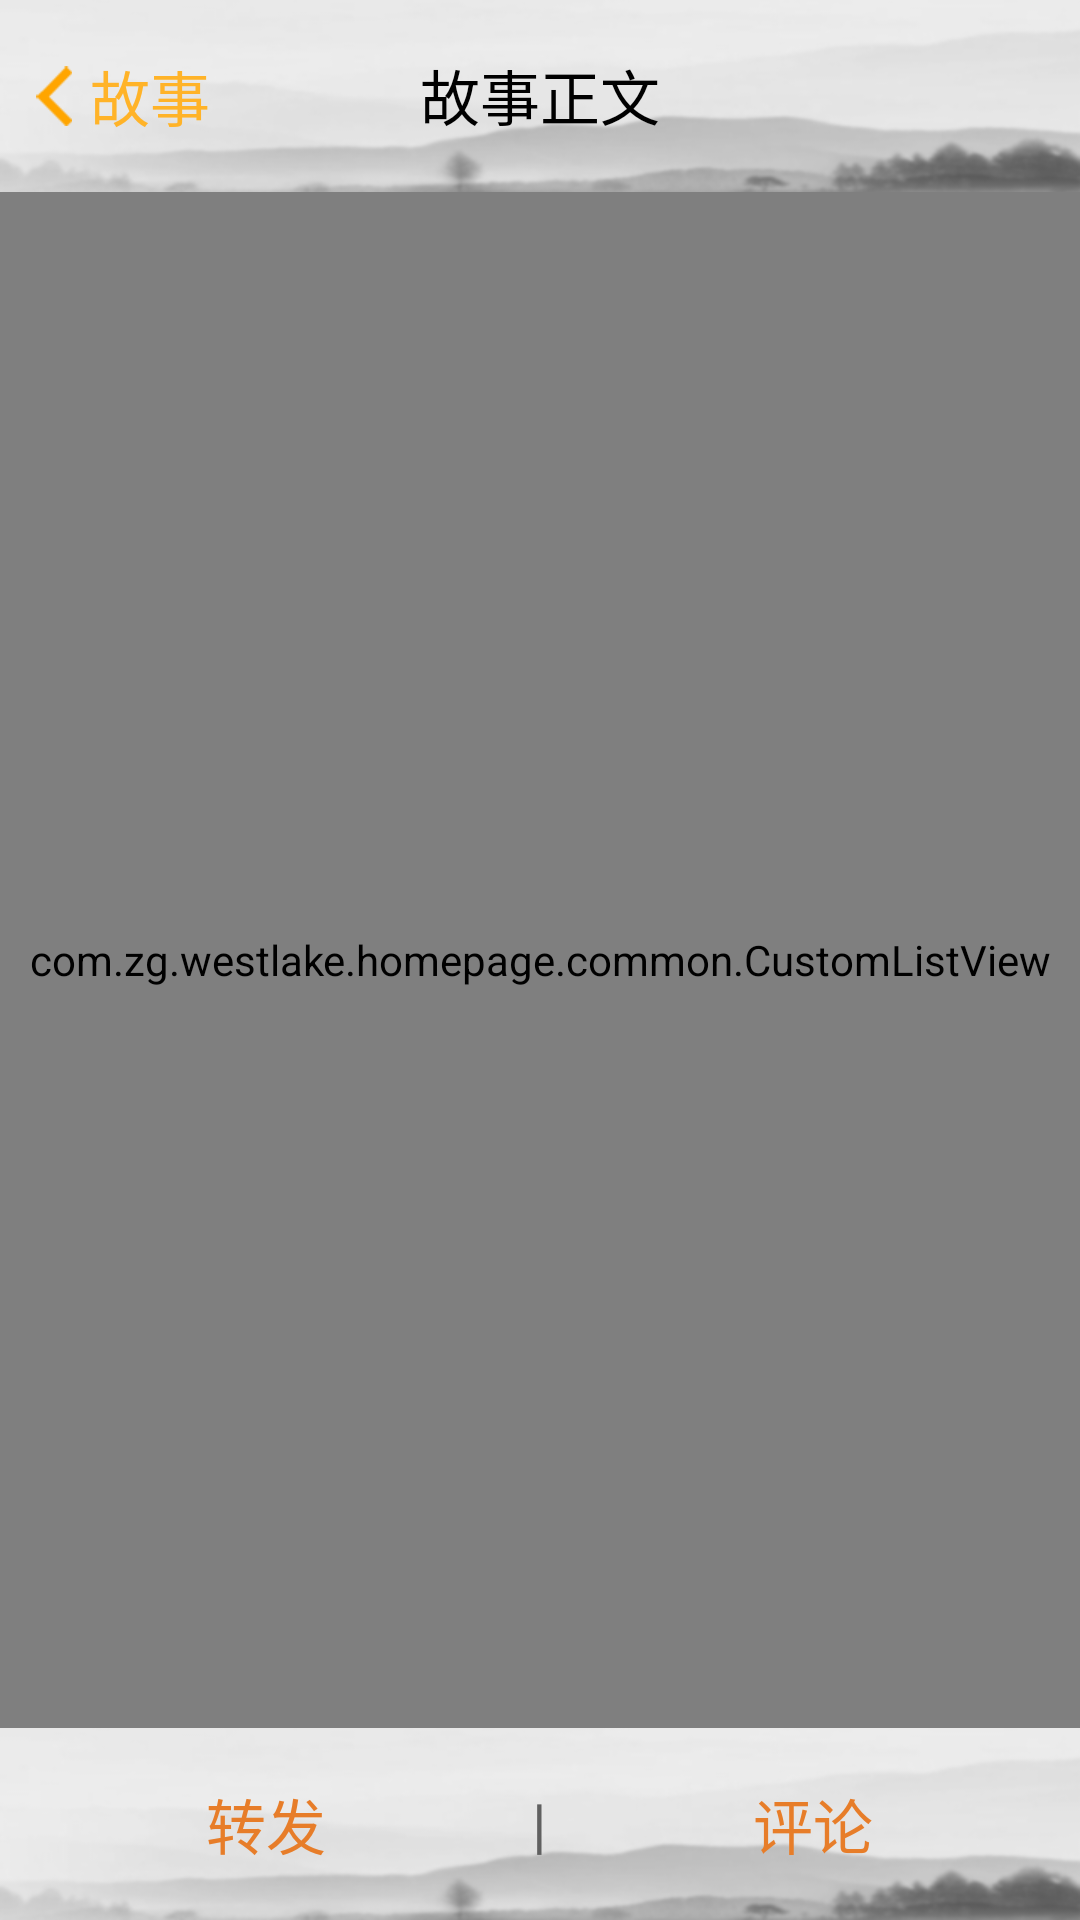

Where to tap for icons on this 1080x1920 app screen, as [x,y]:
back: [54,96]
